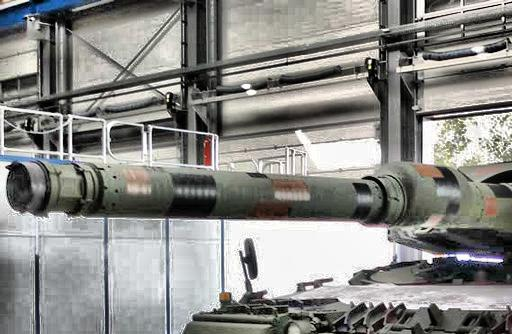tanks: (9, 161, 512, 334)
